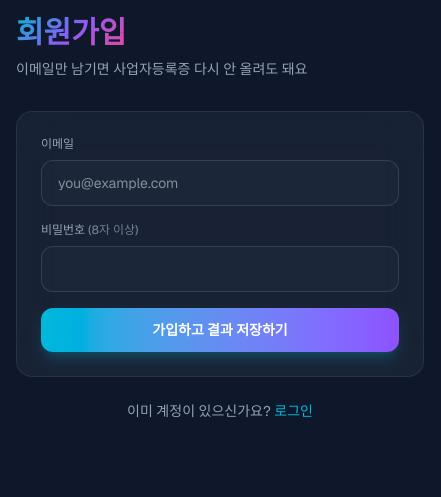
AuthForm: signup 성공 흐름 › data.user 가 null 이면 에러 처리 (error 가 없어도)
Type "a@b.com" into the field labelled "이메일" at x=220, y=183, box [41,160,399,206]
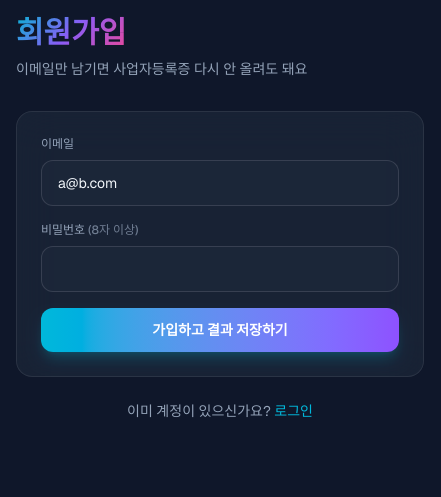
Type "12345678" into the password field labelled "비밀번호 (8자 이상)" at x=220, y=269, box [41,246,399,292]
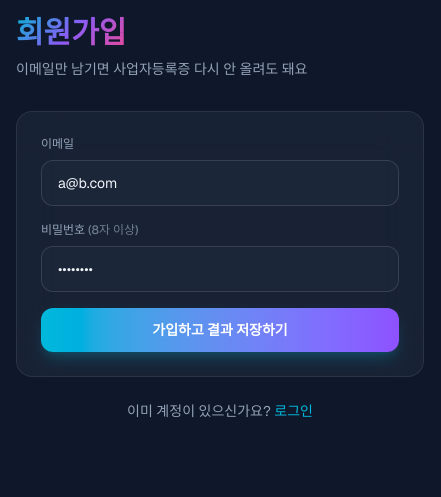
Click the button at x=220, y=330, box [41,308,399,352]
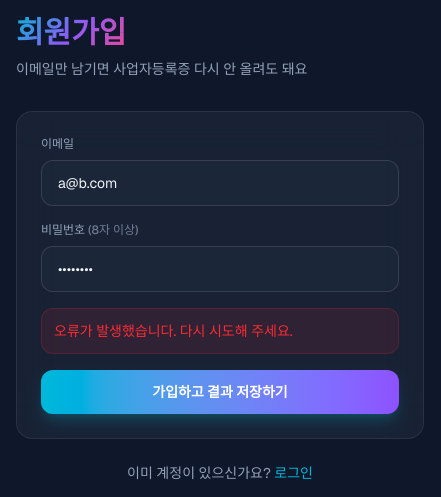
Check: the message "오류가 발생했습니다. 다시 시도해 주세요." is shown, box [41,308,399,354]
